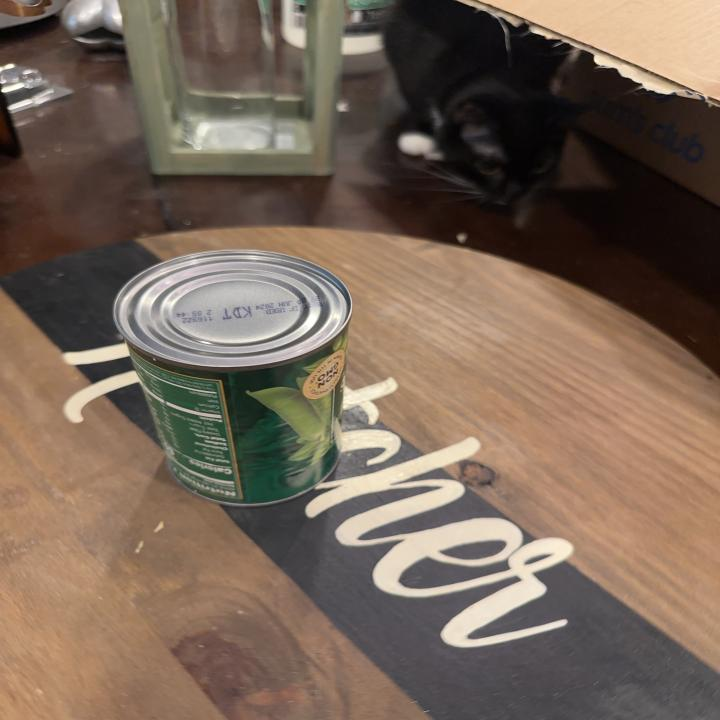Canned-Peas: (124, 250, 354, 496)
